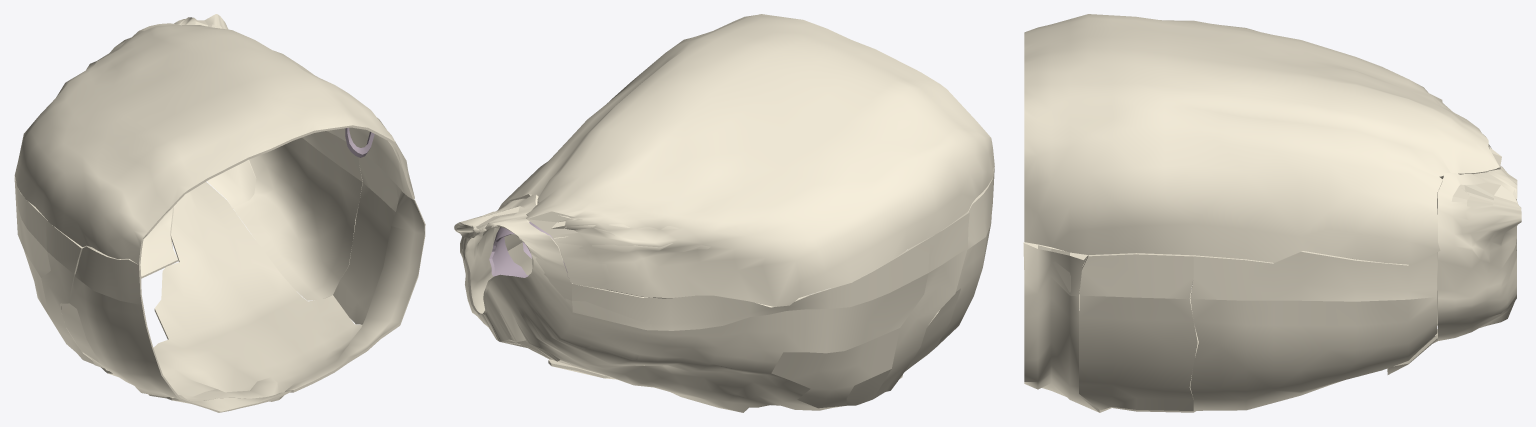
The model's file is Oss.FBX.
3 renders of one model, left to right at view 1: azimuth 30°, elevation 25°; view 2: azimuth 150°, elevation 25°; view 3: azimuth 270°, elevation 25°, orthographic. The views are drawn at different scales.
Visible parts, largest first — view 1: osFrontale, osMaxilla, osEthmoidale, osZygomaticum, osSphenoildale, osLacrimale, osPalatinum, othTrochlea; view 2: osFrontale, osSphenoildale, osZygomaticum, othAnulusTendineusCommunis, osEthmoidale; view 3: osFrontale, osEthmoidale, osLacrimale, osSphenoildale, osMaxilla.
Part boxes in pixels (left/top/right/bottom): osFrontale: left=14, top=23, right=414, bottom=265; osMaxilla: left=101, top=182, right=425, bottom=403; osEthmoidale: left=233, top=131, right=362, bottom=300; osZygomaticum: left=60, top=246, right=291, bottom=412; osSphenoildale: left=14, top=14, right=228, bottom=364; osLacrimale: left=333, top=155, right=398, bottom=324; osPalatinum: left=207, top=159, right=256, bottom=208; othTrochlea: left=345, top=128, right=374, bottom=157; osFrontale: left=494, top=14, right=994, bottom=306; osSphenoildale: left=454, top=194, right=969, bottom=412; osZygomaticum: left=897, top=166, right=994, bottom=381; othAnulusTendineusCommunis: left=489, top=222, right=567, bottom=277; osEthmoidale: left=490, top=202, right=620, bottom=293; osFrontale: left=1024, top=14, right=1501, bottom=264; osEthmoidale: left=1190, top=251, right=1437, bottom=410; osLacrimale: left=1079, top=253, right=1197, bottom=410; osSphenoildale: left=1303, top=166, right=1521, bottom=340; osMaxilla: left=1023, top=242, right=1437, bottom=412.
Bounding box in the file's own units: 1.55 × 1.35 × 1.74.
